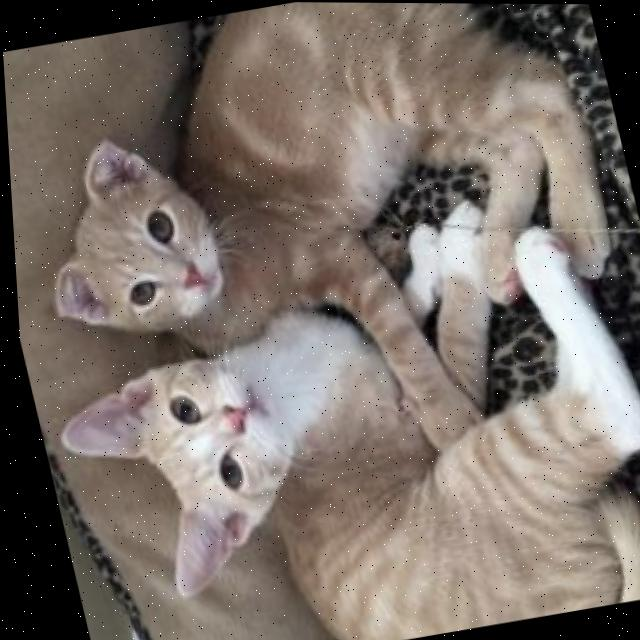Scottish Fold: (0, 0, 640, 377), (27, 270, 640, 640)
